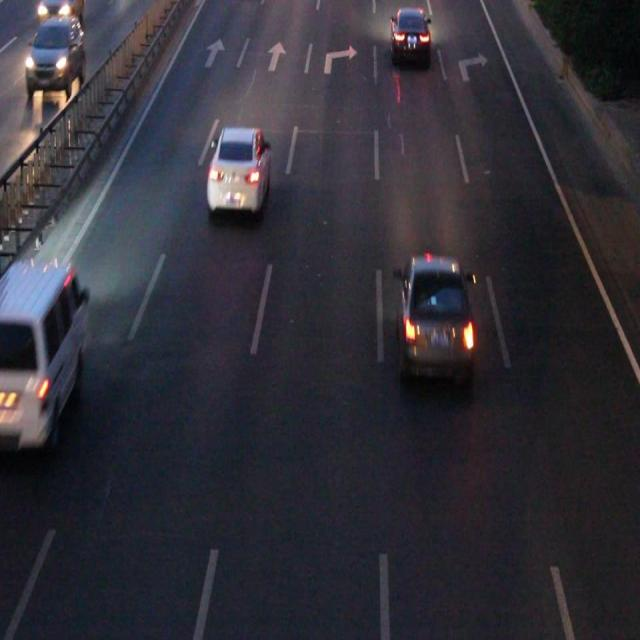car: (397, 256, 473, 380), (208, 130, 270, 210), (389, 11, 429, 59)
truck: (0, 261, 86, 445)
